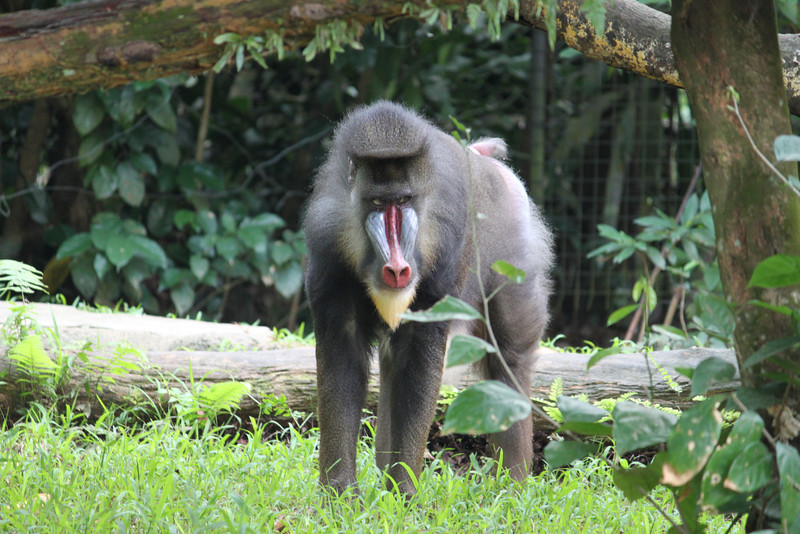Mandrill: (296, 103, 562, 475)
